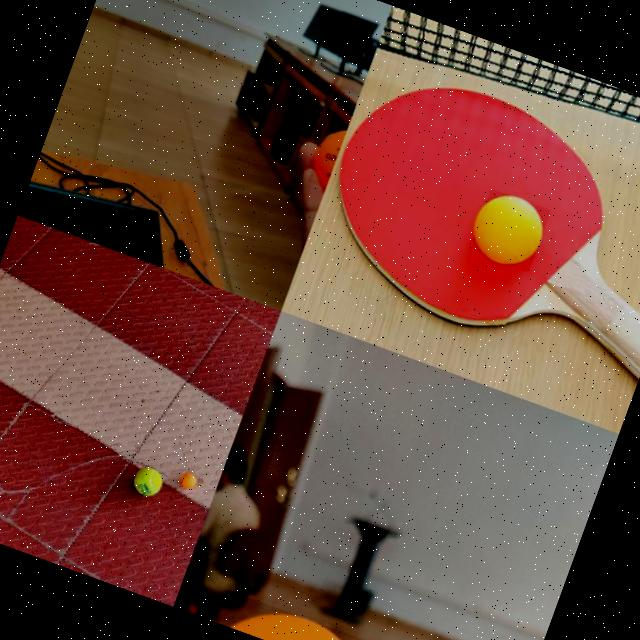ping-pong-ball: (212, 589, 394, 640), (467, 188, 552, 274), (304, 120, 348, 190), (178, 471, 200, 492)
